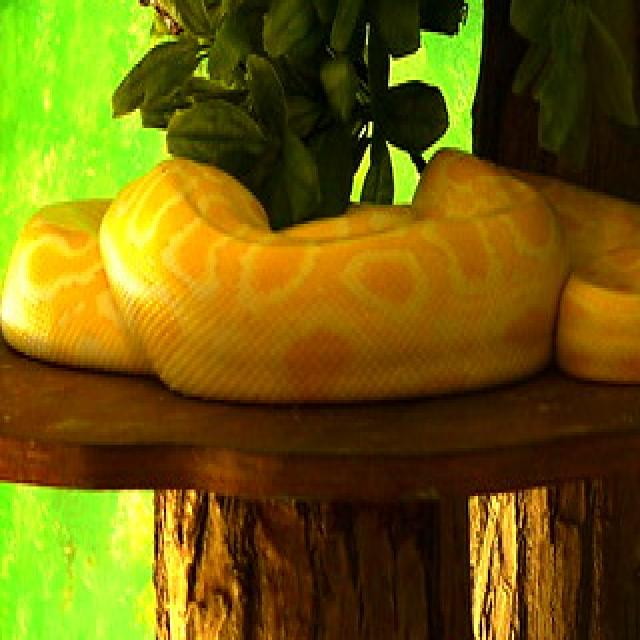Snake: (0, 141, 640, 403)
